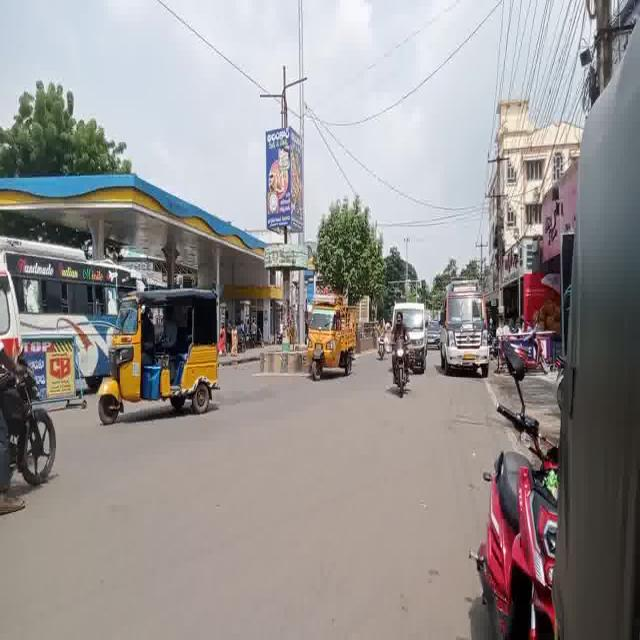ambulance: (441, 285, 496, 379)
